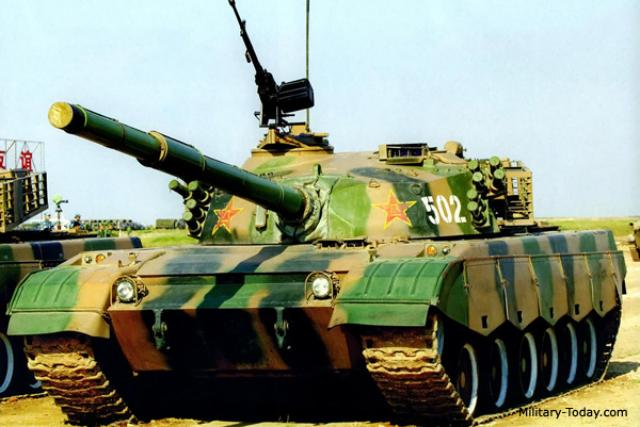tank: (25, 105, 618, 408), (627, 218, 639, 261)
